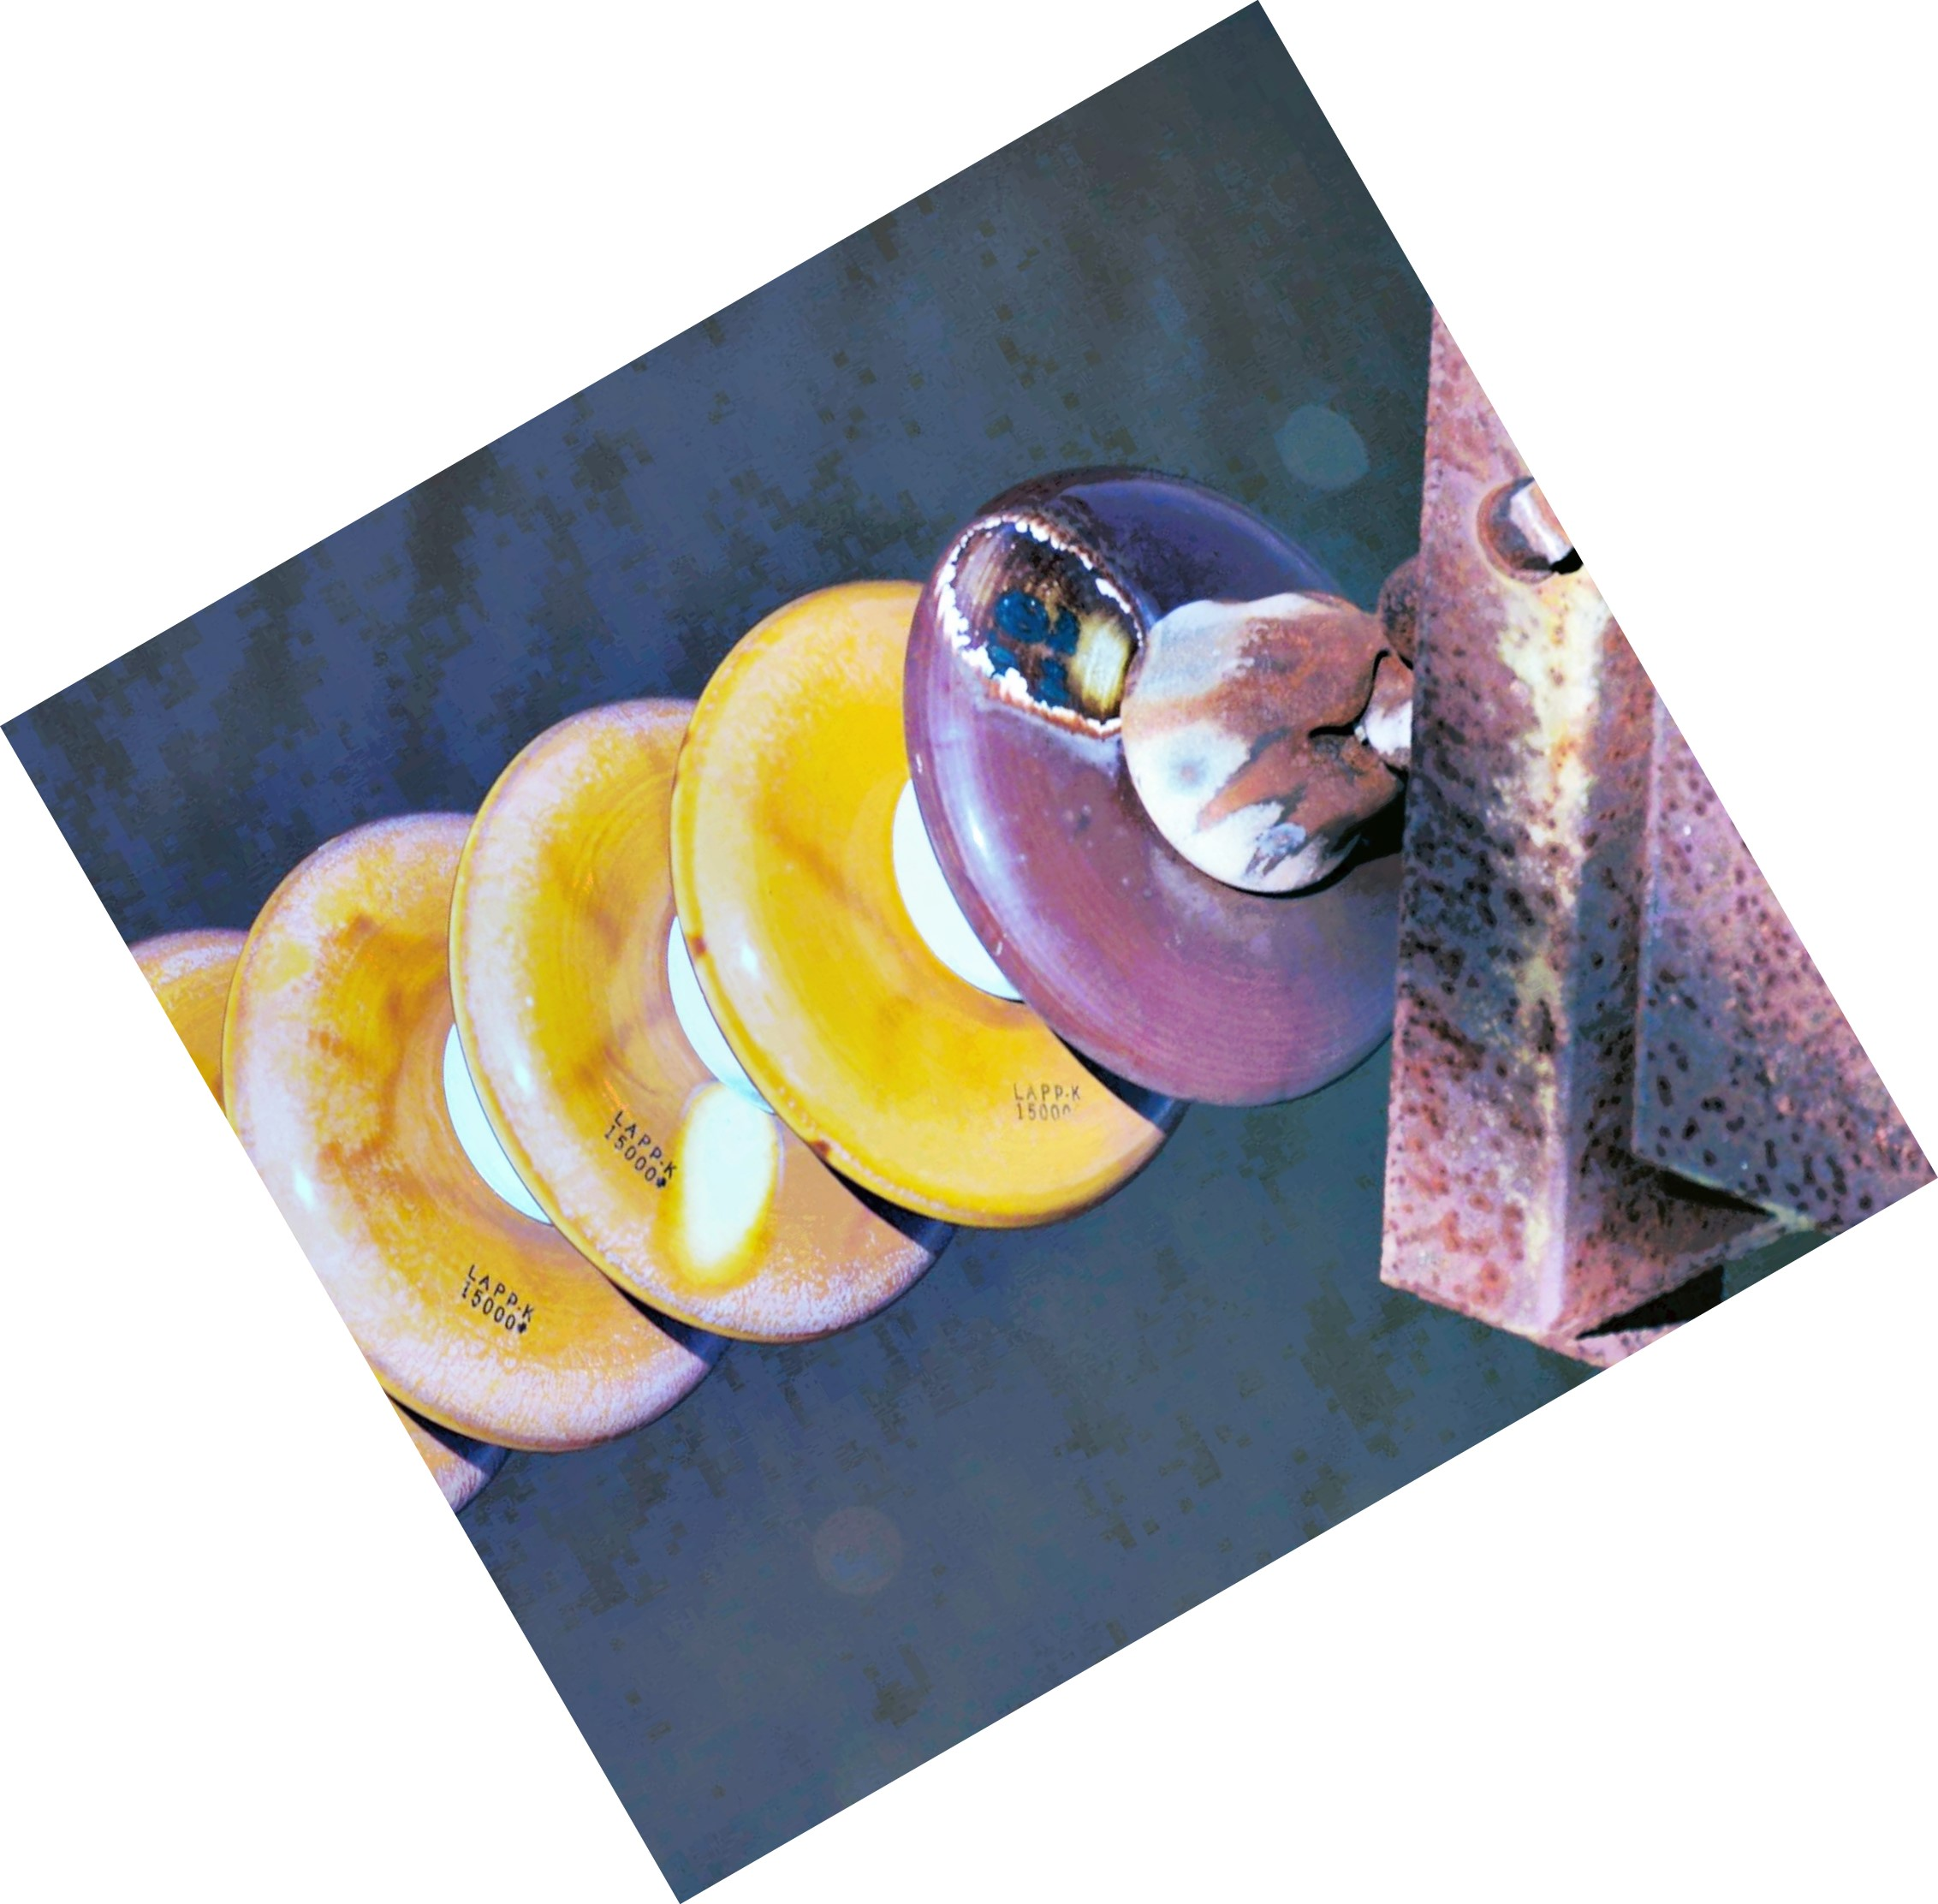Insulator flashover: (877, 427, 1462, 1135)
